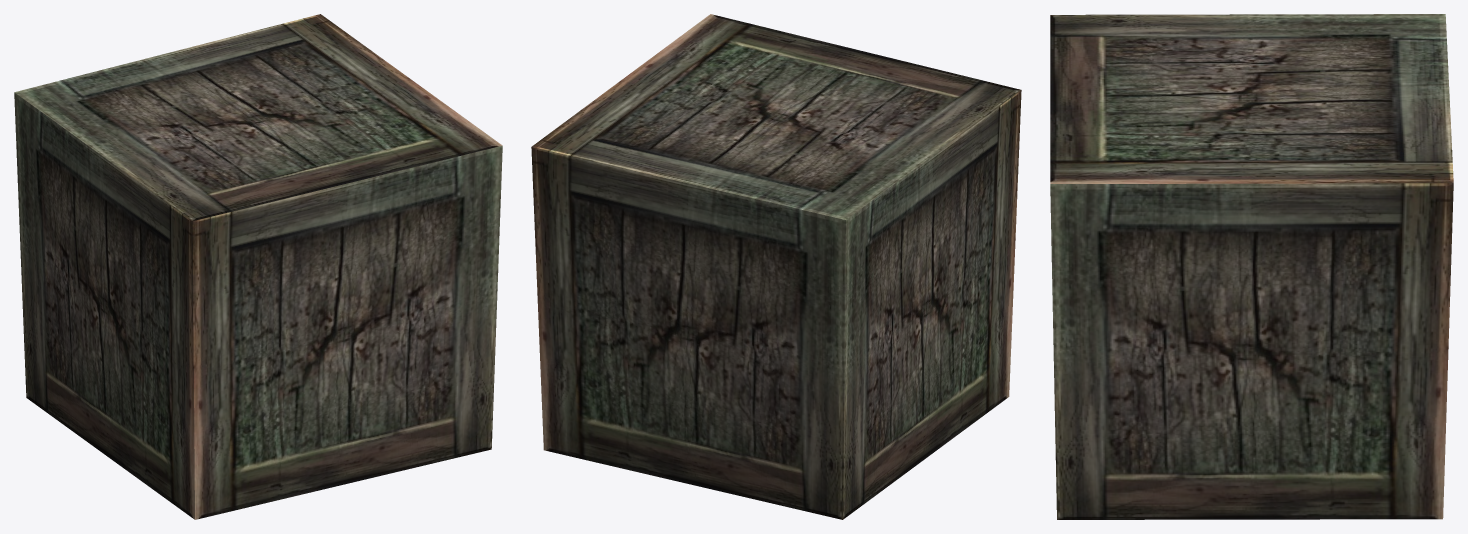
The model's file is pir_m_prp_dvj_crate.fbx.
The picture shows the model from 3 angles, left to right: view 1: azimuth 30°, elevation 25°; view 2: azimuth 150°, elevation 25°; view 3: azimuth 270°, elevation 25°; orthographic projection. The views are drawn at different scales.
Parts seen in each view (by area): view 1: polySurface1, top; view 2: polySurface1, top; view 3: polySurface1, top.
Part boxes in pixels (x1=…): polySurface1: x1=14, y1=92, x2=502, y2=519; top: x1=14, y1=14, x2=502, y2=220; polySurface1: x1=531, y1=90, x2=1021, y2=519; top: x1=531, y1=14, x2=1020, y2=219; polySurface1: x1=1050, y1=183, x2=1453, y2=519; top: x1=1050, y1=14, x2=1453, y2=183.
Size of the model in its own units: 294 by 274 by 294.
Materials: 1 (1 with a texture image).
